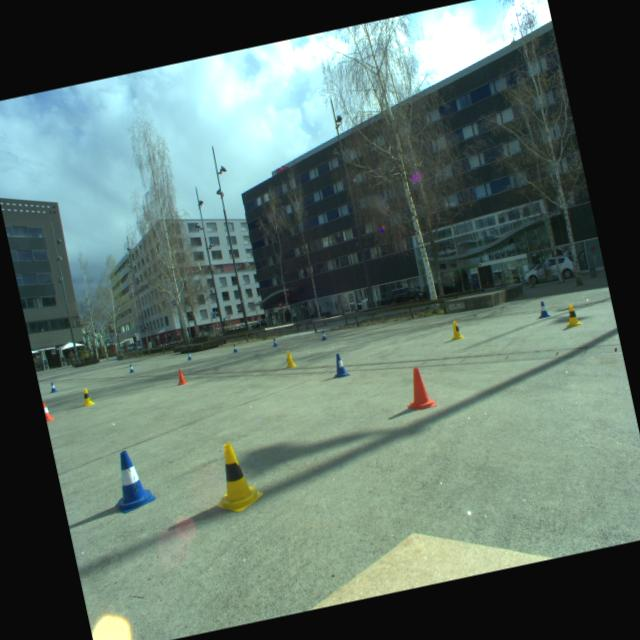blue_cone: (105, 446, 156, 514), (328, 351, 350, 378), (535, 300, 551, 318), (48, 381, 58, 393), (270, 336, 278, 346), (319, 329, 326, 340), (128, 363, 135, 373), (185, 351, 192, 360), (231, 343, 238, 352)
orange_cone: (399, 364, 437, 412), (42, 399, 56, 422), (174, 367, 188, 385)
yellow_cone: (202, 438, 265, 516), (562, 302, 584, 328), (448, 318, 464, 341), (79, 386, 95, 406), (282, 348, 296, 368)
